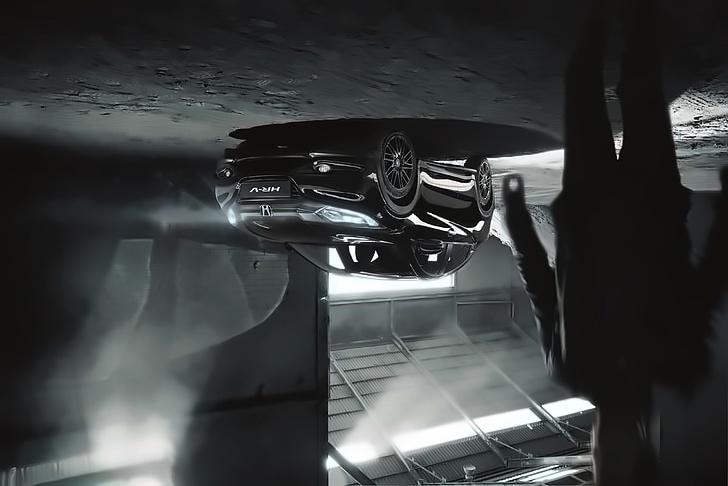Car hood: (227, 221, 402, 244)
Driver-s door - -F-R-: (403, 168, 449, 277)
Fender - -F-R-: (356, 175, 410, 239)
Front bumper: (212, 144, 382, 193)
Headlight - -L-: (219, 205, 248, 229)
Headlight - -R-: (292, 191, 393, 237)
Passenger-s door - -R-R-: (452, 173, 478, 279)
Side bumper - -R-: (415, 156, 483, 178)
Side mirror - -R-: (410, 226, 451, 258)
